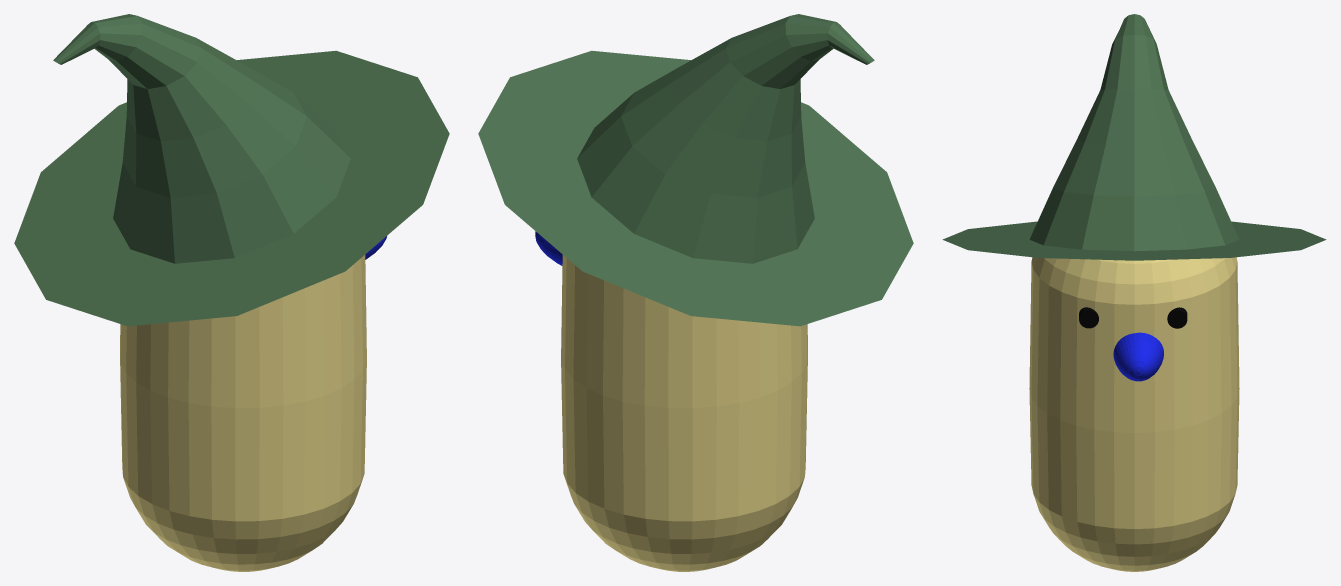
File: BobMerged.fbx
3 renders of one model, left to right at view 1: azimuth 30°, elevation 25°; view 2: azimuth 150°, elevation 25°; view 3: azimuth 270°, elevation 25°, orthographic. The views are drawn at different scales.
Parts seen in each view (by area): view 1: BobMerged; view 2: BobMerged; view 3: BobMerged.
Boxes of the visible parts, x1,y1,x2,y2 form: BobMerged: (14, 14, 449, 571); BobMerged: (478, 14, 913, 571); BobMerged: (942, 14, 1326, 571).
Size of the model in its own units: 347 by 511 by 366.
